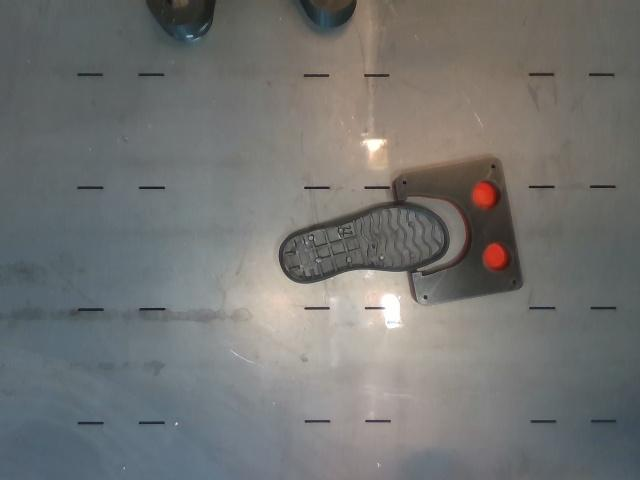shoes: (281, 207, 447, 281)
